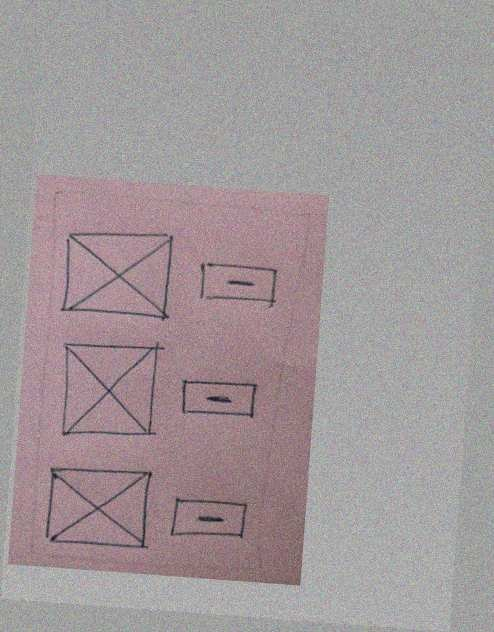button: (193, 253, 284, 315), (175, 372, 264, 429), (168, 490, 252, 547)
image: (57, 225, 181, 328), (50, 335, 166, 444), (42, 461, 157, 555)
